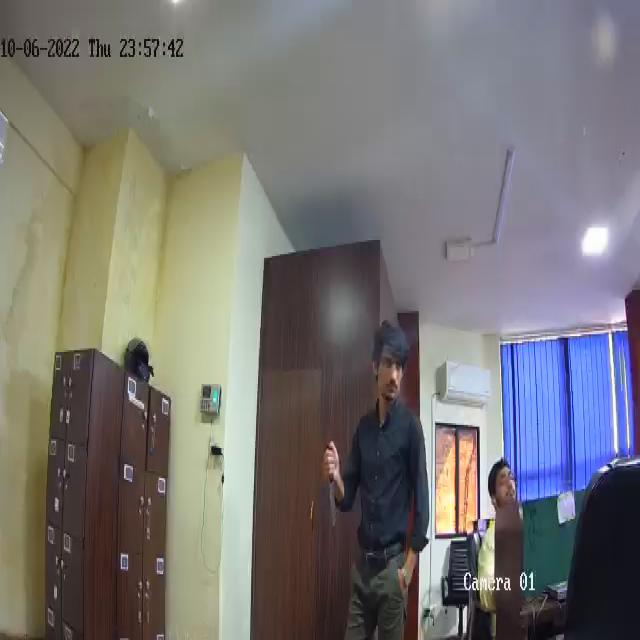weapon: (318, 444, 340, 532)
